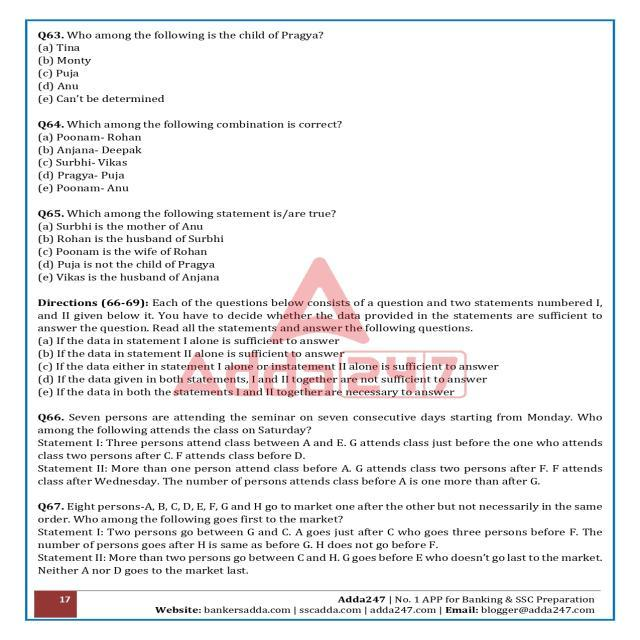Answer_Block: (20, 336, 610, 404), (26, 222, 612, 287), (27, 134, 610, 196)
Question_Answer_Block: (22, 298, 615, 406), (28, 28, 616, 109), (29, 206, 608, 288), (24, 116, 614, 196), (24, 502, 614, 582), (28, 412, 616, 489)
Question_Block: (24, 502, 614, 582), (28, 412, 616, 489), (29, 46, 610, 110), (21, 298, 616, 336), (23, 203, 616, 223), (22, 26, 619, 44), (27, 117, 605, 133)
Question_Paper_Area: (22, 28, 608, 587)
